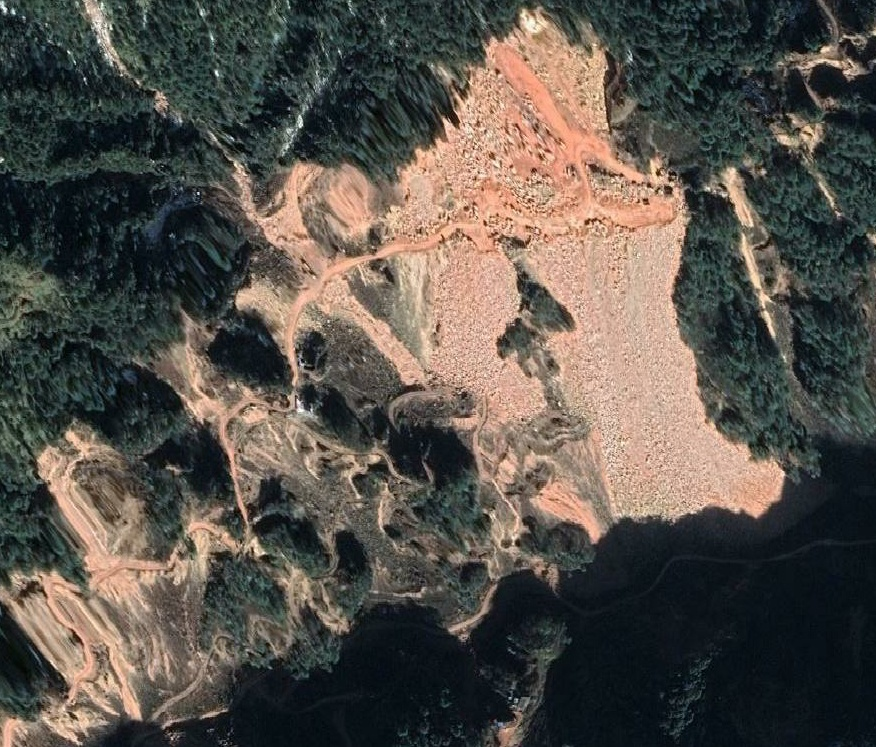slope: (252, 6, 772, 546), (3, 420, 232, 734), (711, 166, 792, 358), (226, 277, 334, 383), (768, 105, 843, 216), (781, 30, 875, 106)
